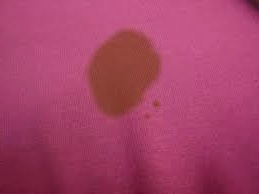oil: (83, 28, 161, 123)
